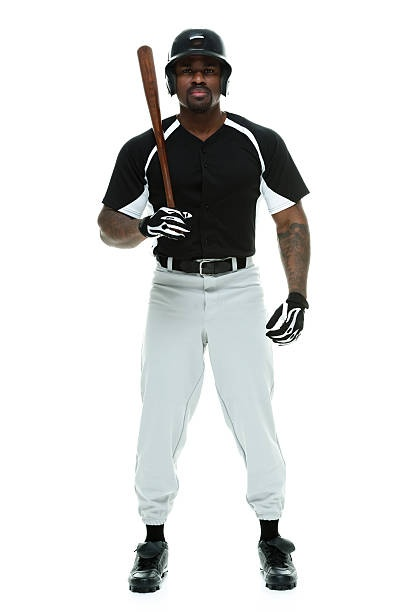bita: (131, 44, 182, 234)
